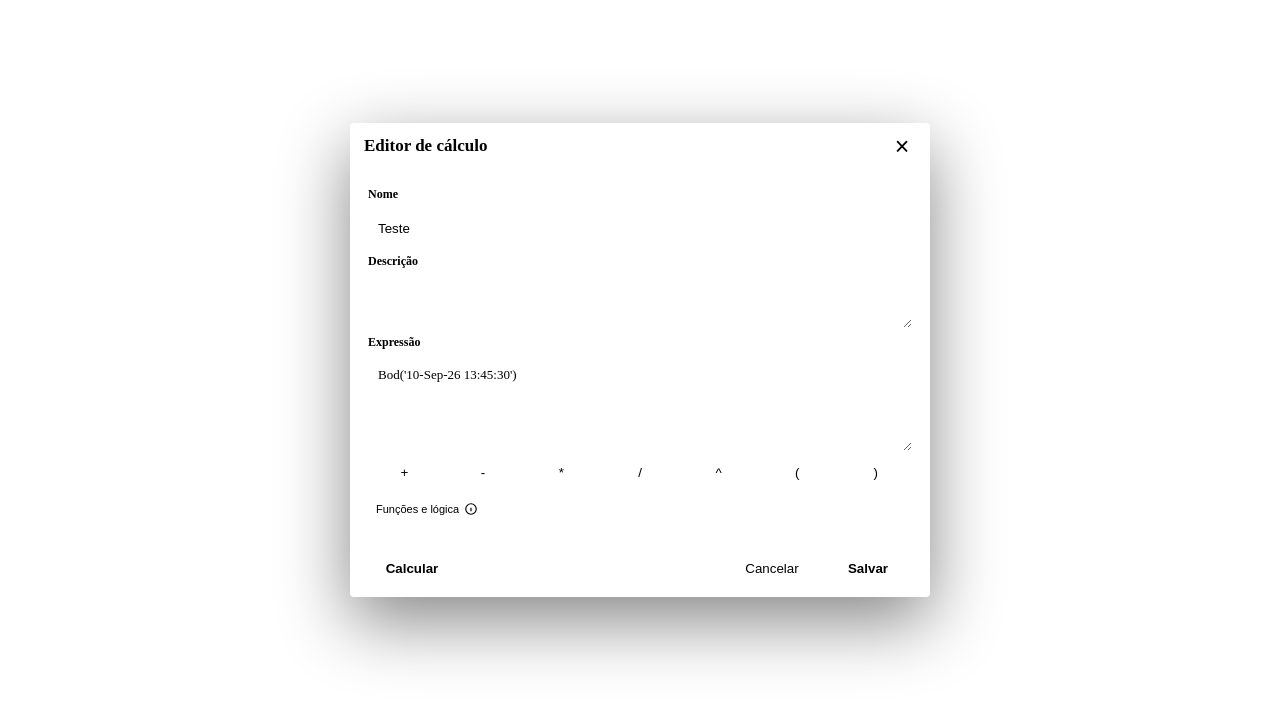
Test case: apresenta o resultado temporal como data, sem heurística pelo valor Unix
The width and height of the screenshot is (1280, 720).
Click the button with test id "calculation-editor-execute".
click(412, 569)  # box [368,553,456,585]
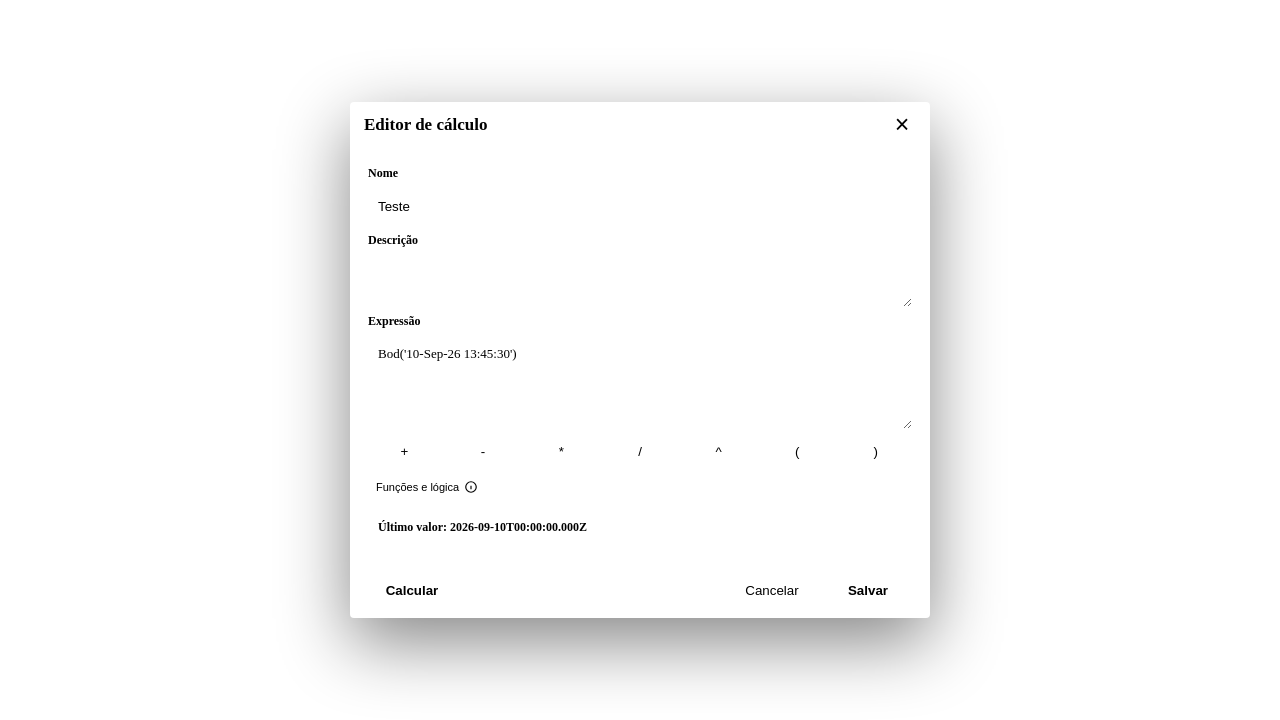
Check: the element with test id "calculation-editor-result" does not show "1789009200", box [378,520,587,534]
Check: the element with test id "calculation-editor-result" shows "2026-09-10T", box [450,520,587,534]
